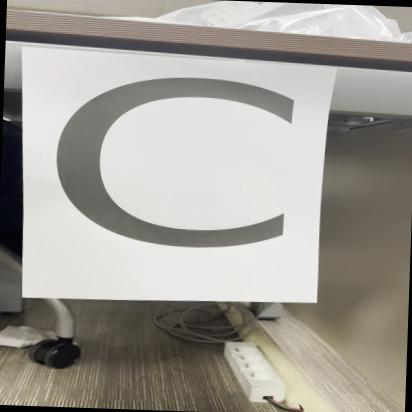seat: (21, 48, 330, 305)
